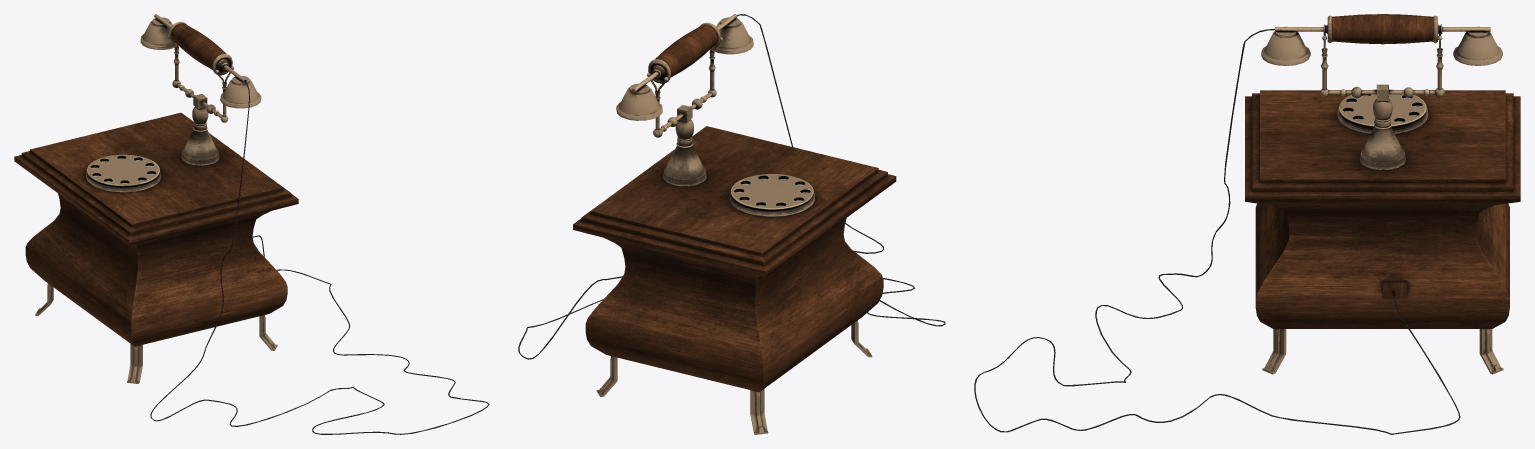
3 views of the same model, side by side, from view 1: azimuth 30°, elevation 25°; view 2: azimuth 150°, elevation 25°; view 3: azimuth 270°, elevation 25° (orthographic). The views are drawn at different scales.
Parts seen in each view (by area): view 1: Wood, Phone, Cable, Feet; view 2: Wood, Phone, Feet, Cable; view 3: Wood, Phone, Cable, Feet.
Boxes of the visible parts, <box> form: Wood: <box>14,23,298,346</box>; Phone: <box>85,14,261,192</box>; Cable: <box>150,80,489,434</box>; Feet: <box>35,283,277,383</box>; Wood: <box>573,24,896,392</box>; Phone: <box>616,14,814,216</box>; Feet: <box>596,320,872,434</box>; Cable: <box>518,14,945,359</box>; Wood: <box>1245,14,1520,328</box>; Phone: <box>1261,15,1502,170</box>; Cable: <box>974,29,1460,434</box>; Feet: <box>1262,329,1503,374</box>.
Bounding box in the file's own units: 4.06 × 4.02 × 5.84.
5 materials, 5 textured.
